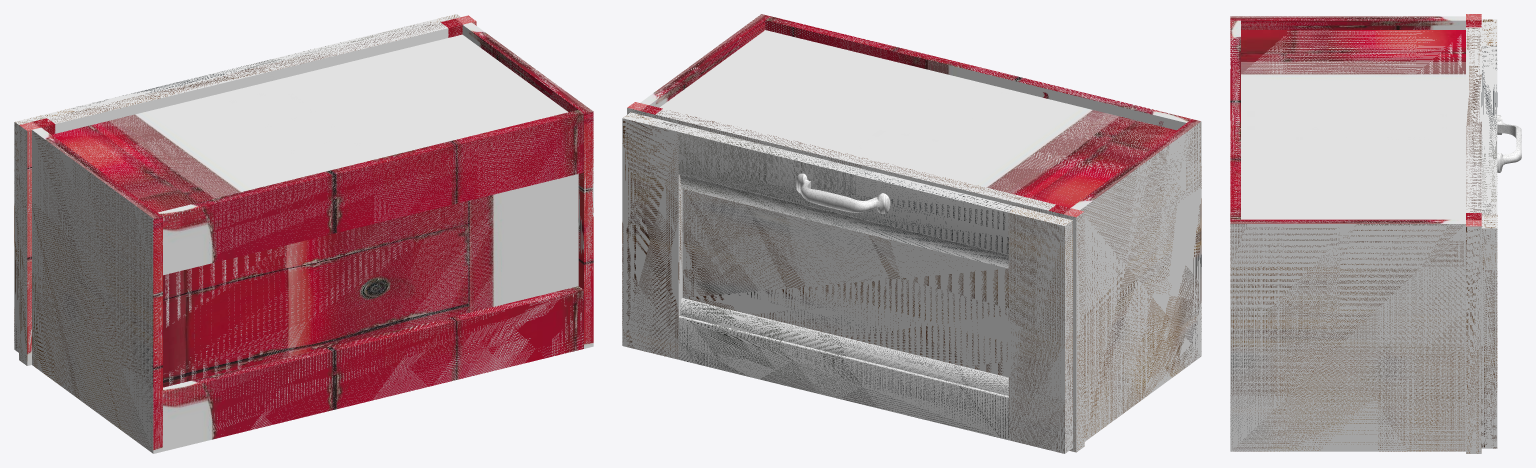
3 views of the same model, side by side, from view 1: azimuth 30°, elevation 25°; view 2: azimuth 150°, elevation 25°; view 3: azimuth 270°, elevation 25° (orthographic). The views are drawn at different scales.
Parts seen in each view (by area): view 1: mesh3_mesh3-geometry, mesh6_mesh6-geometry, mesh1_mesh1-geometry, mesh7_mesh7-geometry, mesh4_mesh4-geometry, mesh8_mesh8-geometry, mesh10_mesh10-geometry, mesh15_mesh15-geometry, mesh14_mesh14-geometry; view 2: mesh1_mesh1-geometry, mesh12_mesh12-geometry, mesh7_mesh7-geometry, mesh16_mesh16-geometry, mesh15_mesh15-geometry, mesh14_mesh14-geometry, mesh11_mesh11-geometry, mesh3_mesh3-geometry, mesh4_mesh4-geometry, mesh10_mesh10-geometry, mesh8_mesh8-geometry, mesh18_mesh18-geometry (+1 smaller); view 3: mesh8_mesh8-geometry, mesh1_mesh1-geometry, mesh11_mesh11-geometry, mesh9_mesh9-geometry, mesh7_mesh7-geometry, mesh4_mesh4-geometry, mesh15_mesh15-geometry, mesh3_mesh3-geometry, mesh17_mesh17-geometry, mesh14_mesh14-geometry.
Boxes of the visible parts, left/top/right/bottom form: mesh3_mesh3-geometry: left=158, top=110, right=583, bottom=451; mesh6_mesh6-geometry: left=163, top=174, right=578, bottom=387; mesh1_mesh1-geometry: left=52, top=34, right=568, bottom=212; mesh7_mesh7-geometry: left=32, top=127, right=162, bottom=453; mesh4_mesh4-geometry: left=47, top=22, right=448, bottom=133; mesh8_mesh8-geometry: left=462, top=22, right=593, bottom=348; mesh10_mesh10-geometry: left=19, top=118, right=55, bottom=365; mesh15_mesh15-geometry: left=71, top=27, right=404, bottom=111; mesh14_mesh14-geometry: left=14, top=108, right=74, bottom=352; mesh1_mesh1-geometry: left=659, top=30, right=1176, bottom=207; mesh12_mesh12-geometry: left=682, top=189, right=1008, bottom=377; mesh7_mesh7-geometry: left=1071, top=119, right=1201, bottom=441; mesh16_mesh16-geometry: left=678, top=298, right=1008, bottom=440; mesh15_mesh15-geometry: left=678, top=126, right=1016, bottom=268; mesh14_mesh14-geometry: left=1008, top=206, right=1072, bottom=453; mesh11_mesh11-geometry: left=622, top=112, right=686, bottom=359; mesh3_mesh3-geometry: left=765, top=16, right=1191, bottom=130; mesh4_mesh4-geometry: left=655, top=108, right=1055, bottom=213; mesh10_mesh10-geometry: left=1048, top=204, right=1084, bottom=452; mesh8_mesh8-geometry: left=640, top=14, right=770, bottom=107; mesh18_mesh18-geometry: left=1018, top=82, right=1184, bottom=129; mesh8_mesh8-geometry: left=1230, top=219, right=1465, bottom=451; mesh1_mesh1-geometry: left=1241, top=30, right=1465, bottom=219; mesh11_mesh11-geometry: left=1481, top=201, right=1497, bottom=448; mesh9_mesh9-geometry: left=1466, top=213, right=1481, bottom=453; mesh7_mesh7-geometry: left=1230, top=16, right=1465, bottom=29; mesh4_mesh4-geometry: left=1466, top=27, right=1481, bottom=212; mesh15_mesh15-geometry: left=1481, top=45, right=1497, bottom=201; mesh3_mesh3-geometry: left=1230, top=20, right=1240, bottom=219; mesh17_mesh17-geometry: left=1497, top=115, right=1521, bottom=172; mesh14_mesh14-geometry: left=1481, top=19, right=1497, bottom=45.
Size of the model in its own units: 0.7941 by 0.3971 by 0.4601.
